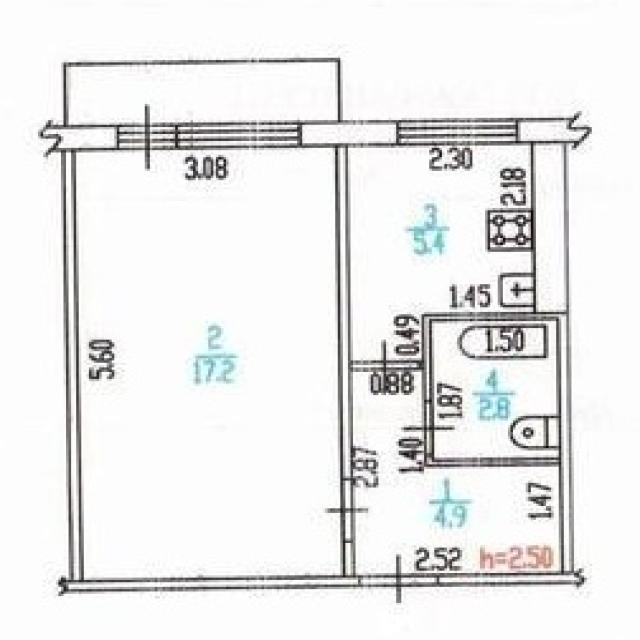Bathrooms: (433, 321, 559, 457)
Corridors: (354, 371, 563, 575), (64, 59, 340, 125)
Doors: (350, 335, 423, 399), (116, 101, 179, 172), (358, 554, 439, 605), (324, 479, 373, 543), (401, 400, 457, 455)
LBwalls: (532, 142, 567, 313), (37, 117, 118, 161), (518, 108, 595, 152), (303, 119, 399, 148)
Offices: (77, 150, 343, 579), (348, 143, 533, 359)
Walls: (423, 312, 588, 588), (52, 543, 361, 601), (62, 151, 84, 580), (336, 143, 354, 480)
Windows: (176, 120, 303, 151), (396, 118, 518, 146)
